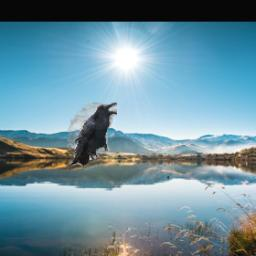Crow: (68, 103, 118, 168)
